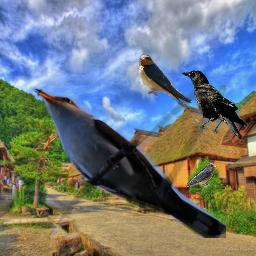Crow: (178, 69, 248, 140)
Cuckoo: (30, 85, 226, 238)
Swallow: (138, 54, 200, 123), (185, 163, 217, 188)
